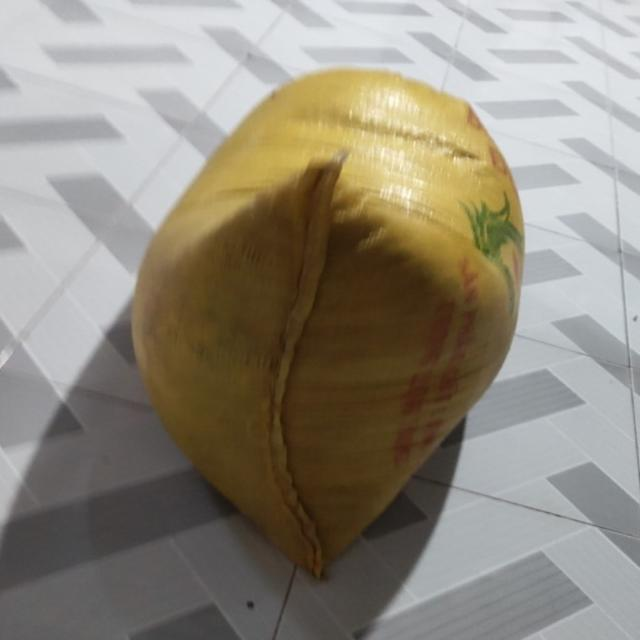gunny_bag: (134, 69, 524, 577)
